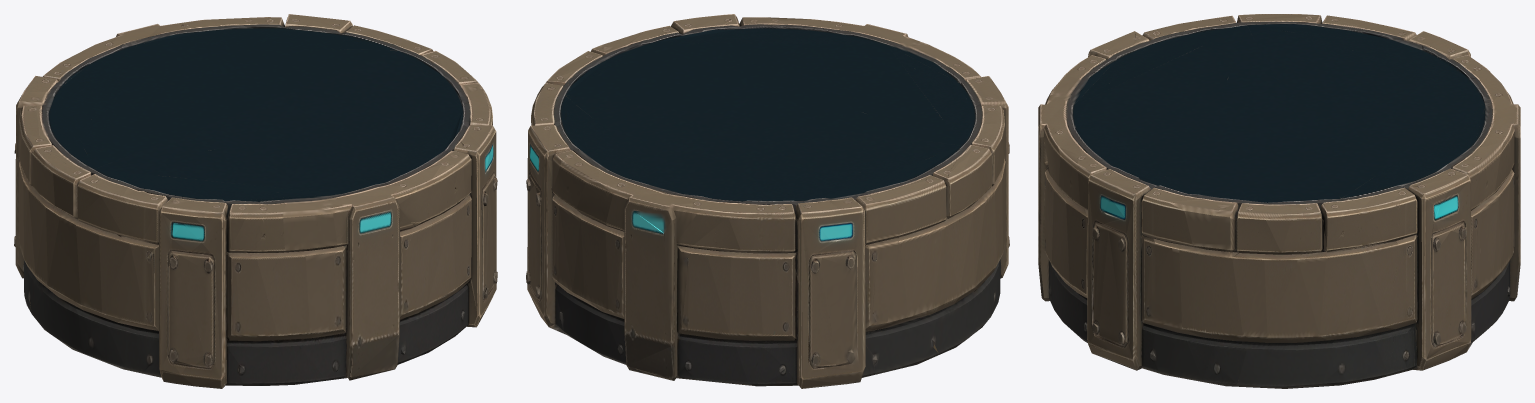
Rendered from golostol-korpus.glb.
3 views of the same model, side by side, from view 1: azimuth 30°, elevation 25°; view 2: azimuth 150°, elevation 25°; view 3: azimuth 270°, elevation 25° (orthographic).
Visible parts, largest first — view 1: golostol-korpus; view 2: golostol-korpus; view 3: golostol-korpus.
Part boxes in pixels (x1,y1,x2,y2): golostol-korpus: (14,14,497,388); golostol-korpus: (526,14,1009,388); golostol-korpus: (1038,14,1520,388).
Bounding box in the file's own units: 2.2 × 0.9 × 2.2.
1 material, 1 textured.
